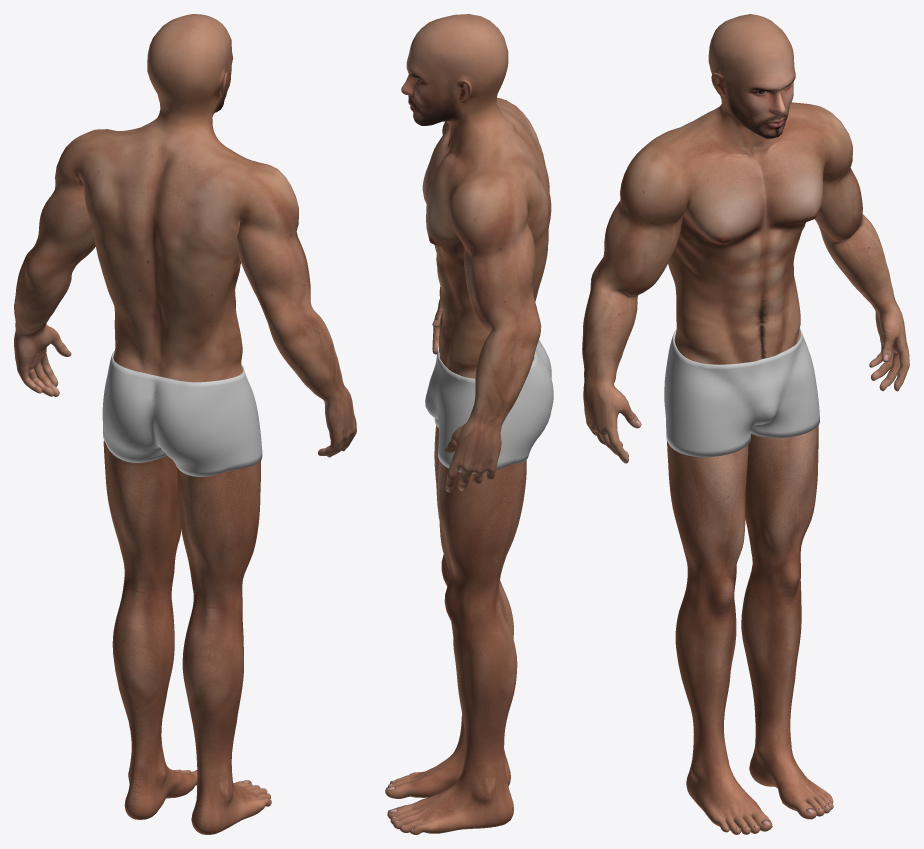
The picture shows the model from 3 angles, left to right: view 1: azimuth 30°, elevation 25°; view 2: azimuth 150°, elevation 25°; view 3: azimuth 270°, elevation 25°; orthographic projection.
Visible parts, largest first — view 1: prim0; view 2: prim0; view 3: prim0.
Boxes of the visible parts, <box> form: prim0: <box>14,14,356,834</box>; prim0: <box>385,14,553,834</box>; prim0: <box>582,14,909,834</box>.
Size of the model in its own units: 0.0929 by 0.1231 by 0.3236.
